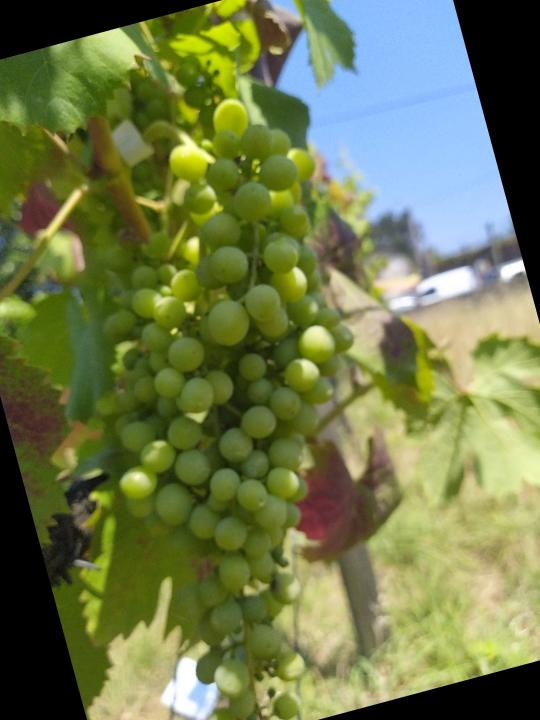grape: (25, 72, 458, 720)
